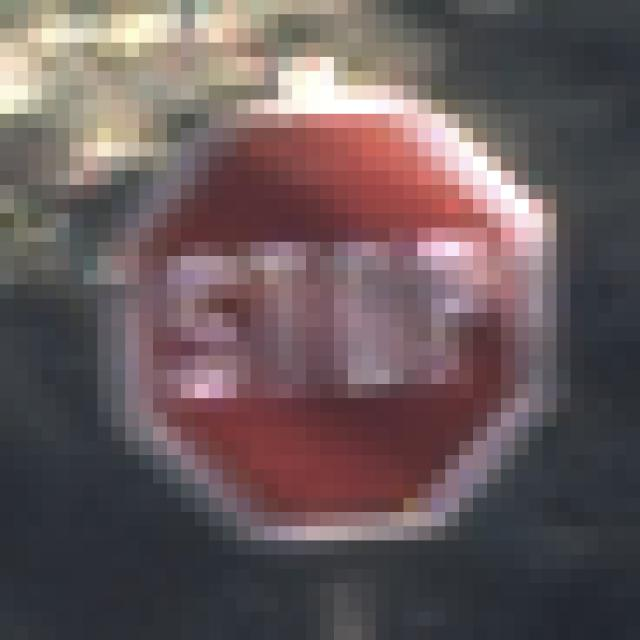STOP: (85, 72, 558, 556)
